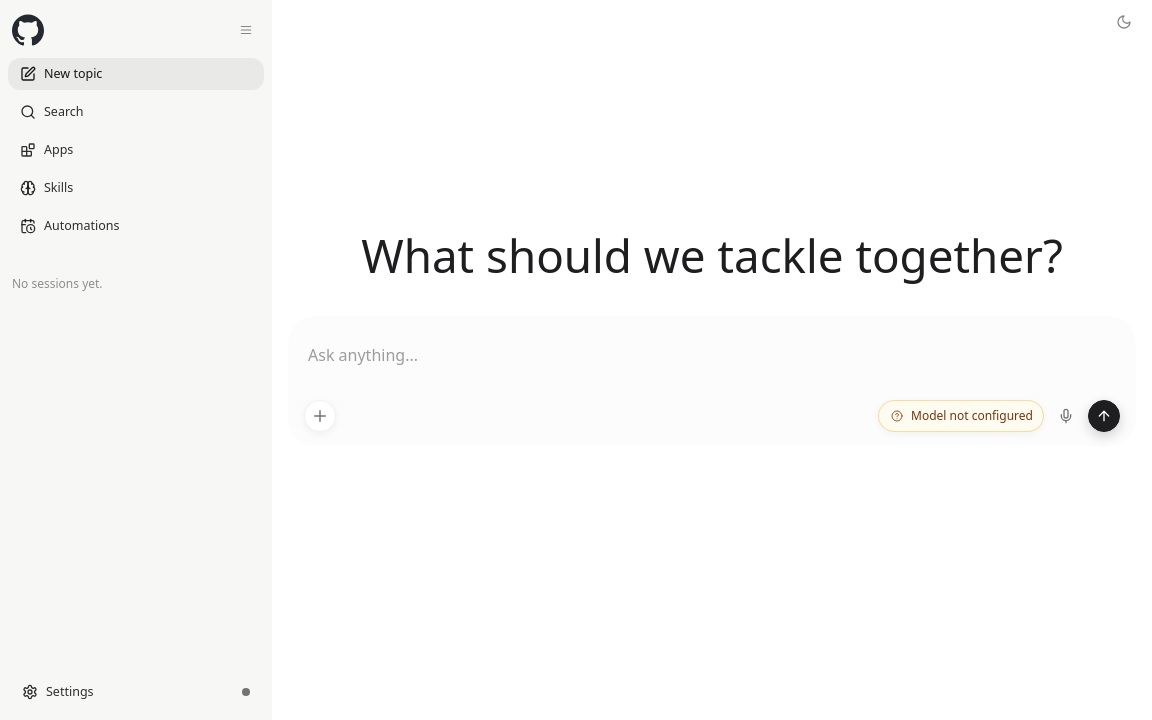
Test case: App layout › transitions between Apps and Skills without replacing the sidebar
This screenshot has width=1152, height=720.
Click the button "Apps" at (136, 150), box [8,134,264,166]
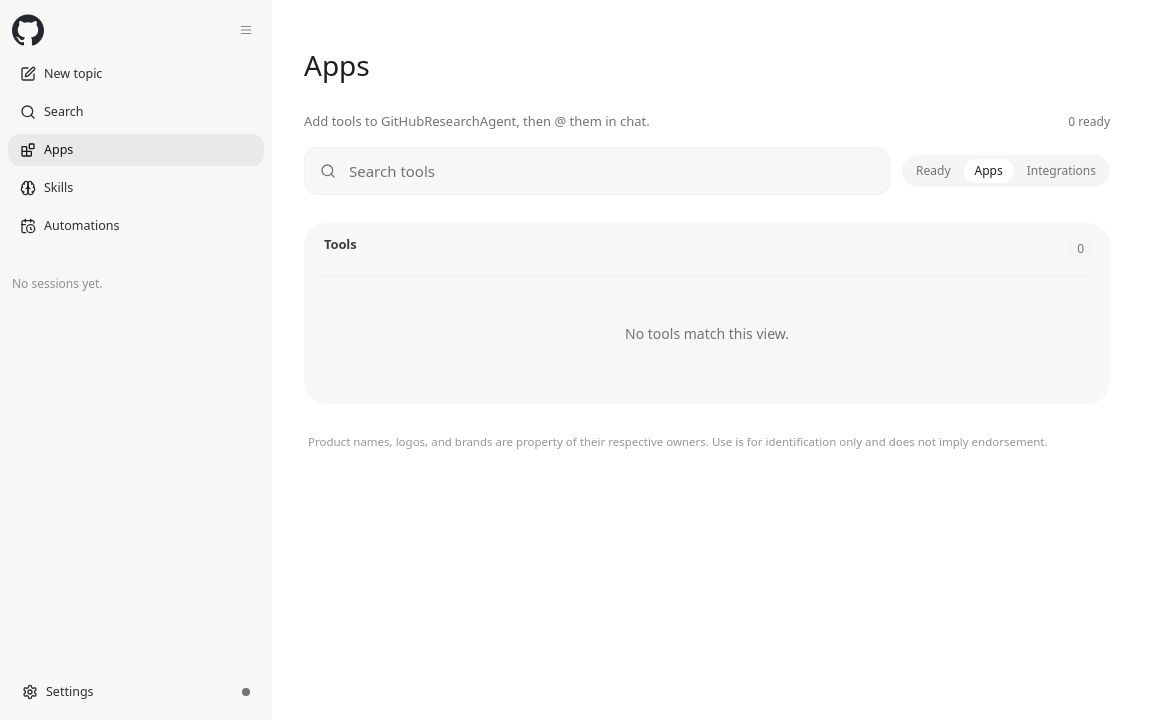
Expected: the navigation bar named "Sidebar navigation" is shown, [0,0,272,719]
Now the heading "Apps" is shown, box [304,46,370,84]
Click the button "Skills" at (136, 188), box [8,172,264,204]
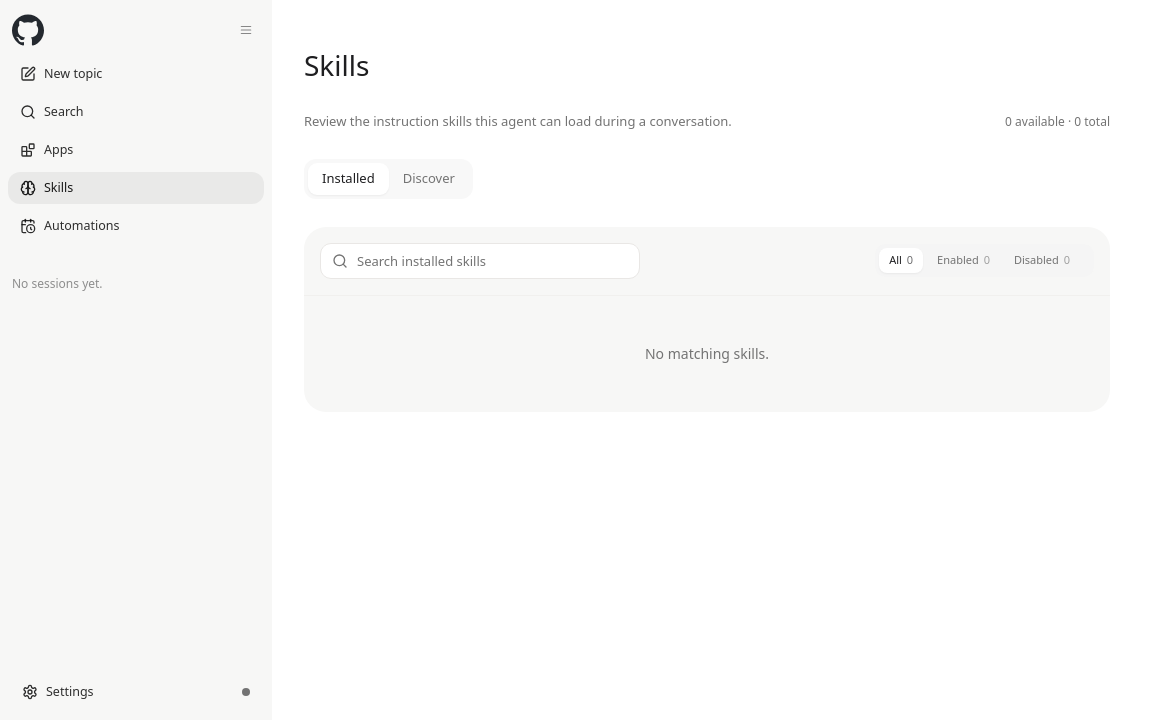
Expected: the navigation bar named "Sidebar navigation" is shown, [0,0,272,719]
Now the heading "Skills" is shown, box [304,46,369,84]
